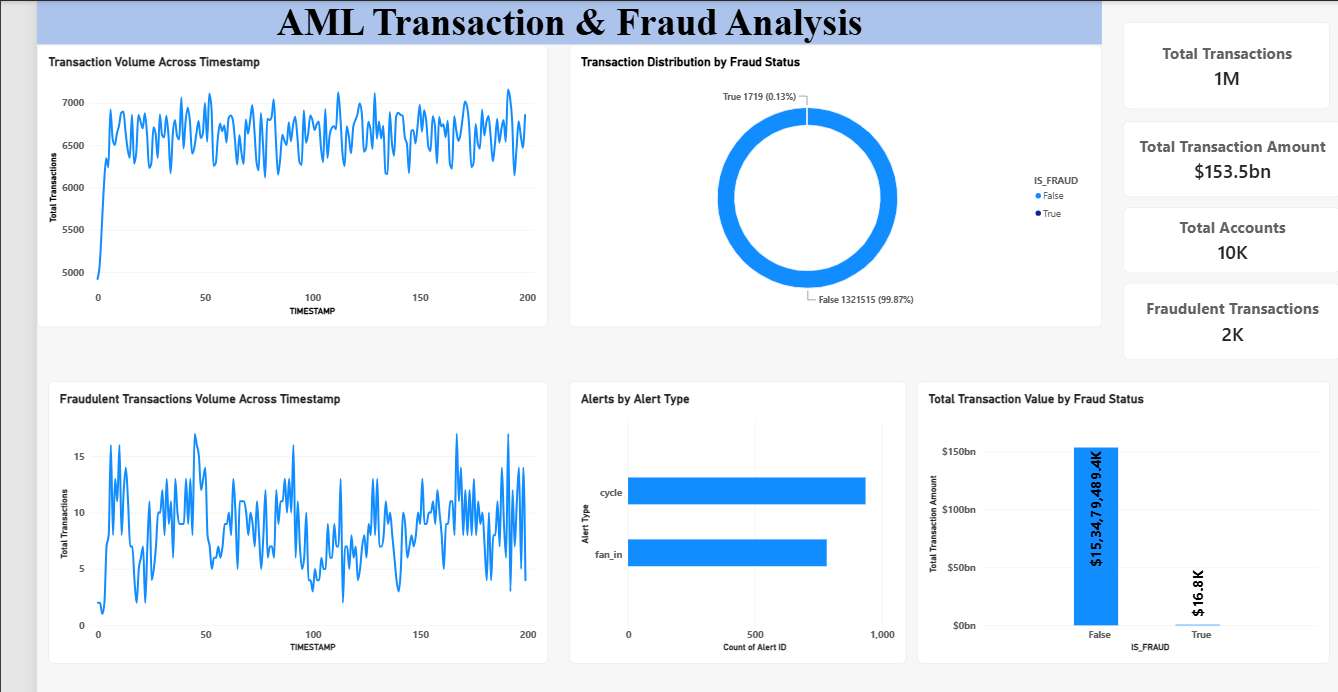

Layout of this report page (visuals, bound fields, positions):
{"tool":"powerbi","page":{"name":"AML Transaction & Fraud Analysis","canvas":[1920,1080],"ordinal":0},"visuals":[{"type":"textbox","box":[0,0,1568,64],"z":0},{"type":"cardVisual","fields":{"Data":["Transactions.Total Transaction Amount"]},"box":[1584,144,320,112],"z":1},{"type":"cardVisual","fields":{"Data":["Accounts.Total Accounts"]},"box":[1584,272,320,112],"z":2},{"type":"cardVisual","fields":{"Data":["Transactions.Fraudulent Transactions"]},"box":[1584,400,320,112],"z":3},{"type":"cardVisual","fields":{"Data":["Transactions.Total Transactions"]},"box":[1584,0,320,128],"z":4},{"type":"lineChart","title":"Transaction Volume Across Timestamp","fields":{"Category":["Transactions.TIMESTAMP"],"Y":["Transactions.Total Transactions"]},"box":[0,96,752,416],"z":5},{"type":"donutChart","title":"Transaction Distribution by Fraud Status","fields":{"Category":["Transactions.IS_FRAUD"],"Y":["Transactions.Total Transactions"]},"box":[784,96,784,416],"z":6},{"type":"lineChart","title":"Fraudulent Transactions Volume Across Timestamp","fields":{"Category":["Transactions.TIMESTAMP"],"Y":["Transactions.Total Transactions"]},"box":[0,544,736,416],"z":7},{"type":"clusteredBarChart","title":"Alerts by Alert Type","fields":{"Category":["Alerts.Alert Type"],"Y":["CountNonNull(Alerts.Alert ID)"]},"box":[752,544,496,416],"z":8},{"type":"clusteredColumnChart","title":"Total Transaction Value by Fraud Status","fields":{"Category":["Transactions.IS_FRAUD"],"Y":["Transactions.Total Transaction Amount"]},"box":[1264,544,608,416],"z":9}]}

Visuals, with their boxes on the page's 1920x1080 design canvas (x1, y1, x2, y2). These are canvas units, not pixel positions in the 1338x692 screenshot, which may show the page scaled, cropped or inside an application window:
textbox: {"x1": 0, "y1": 0, "x2": 1568, "y2": 64}
cardVisual - Transactions.Total Transaction Amount: {"x1": 1584, "y1": 144, "x2": 1904, "y2": 256}
cardVisual - Accounts.Total Accounts: {"x1": 1584, "y1": 272, "x2": 1904, "y2": 384}
cardVisual - Transactions.Fraudulent Transactions: {"x1": 1584, "y1": 400, "x2": 1904, "y2": 512}
cardVisual - Transactions.Total Transactions: {"x1": 1584, "y1": 0, "x2": 1904, "y2": 128}
"Transaction Volume Across Timestamp" lineChart: {"x1": 0, "y1": 96, "x2": 752, "y2": 512}
"Transaction Distribution by Fraud Status" donutChart: {"x1": 784, "y1": 96, "x2": 1568, "y2": 512}
"Fraudulent Transactions Volume Across Timestamp" lineChart: {"x1": 0, "y1": 544, "x2": 736, "y2": 960}
"Alerts by Alert Type" clusteredBarChart: {"x1": 752, "y1": 544, "x2": 1248, "y2": 960}
"Total Transaction Value by Fraud Status" clusteredColumnChart: {"x1": 1264, "y1": 544, "x2": 1872, "y2": 960}
